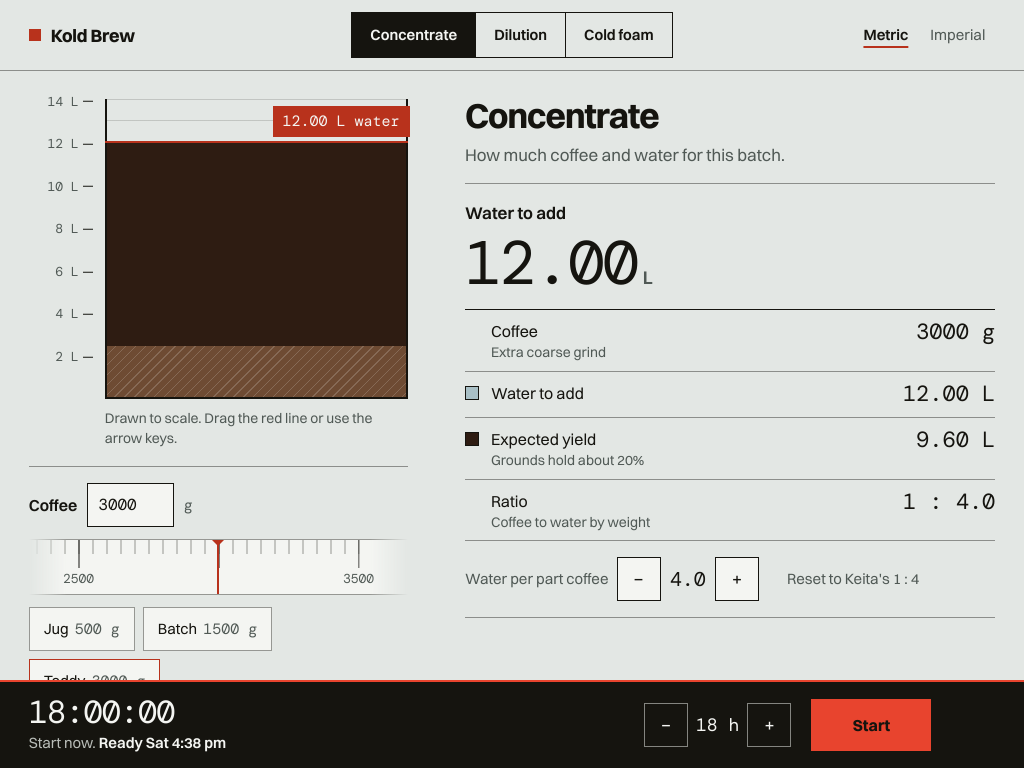
Test case: Calculators › typed exact value updates the batch and clamps on blur
Replace the text in the number field labelled "Coffee" with "500" at (130, 505), box x1=87 y1=483 x2=174 y2=527
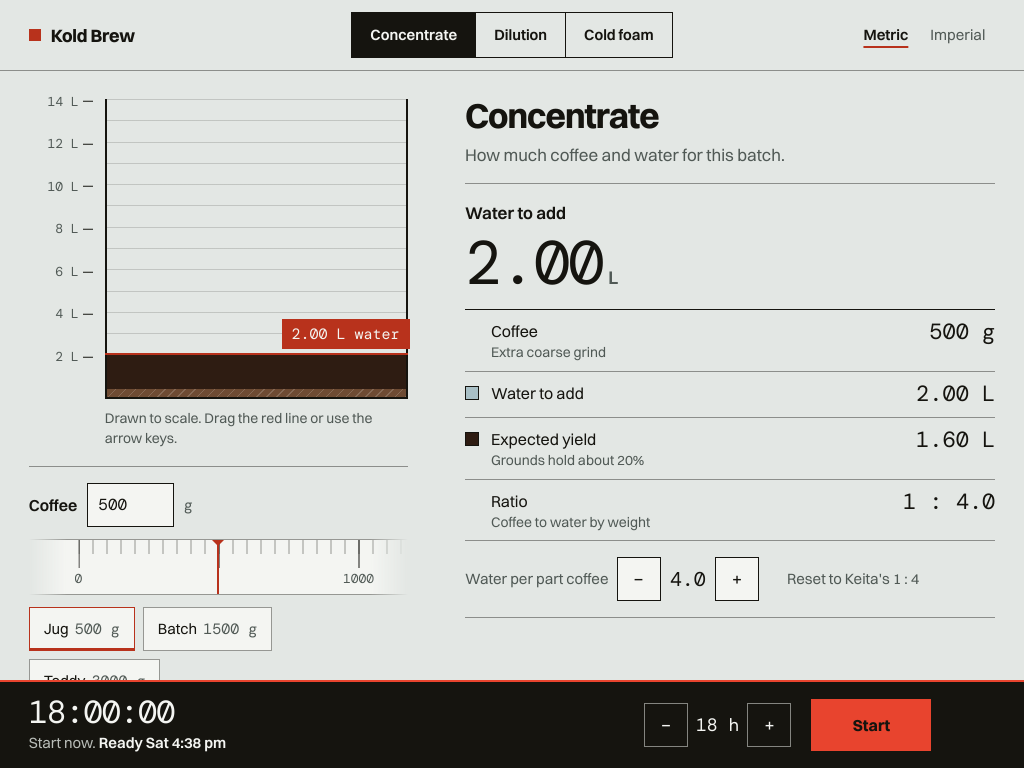
Now the element with test id "lead-value" reads "2.00 L", box x1=465 y1=223 x2=618 y2=303
Replace the text in the number field labelled "Coffee" with "9999" at (130, 505), box x1=87 y1=483 x2=174 y2=527
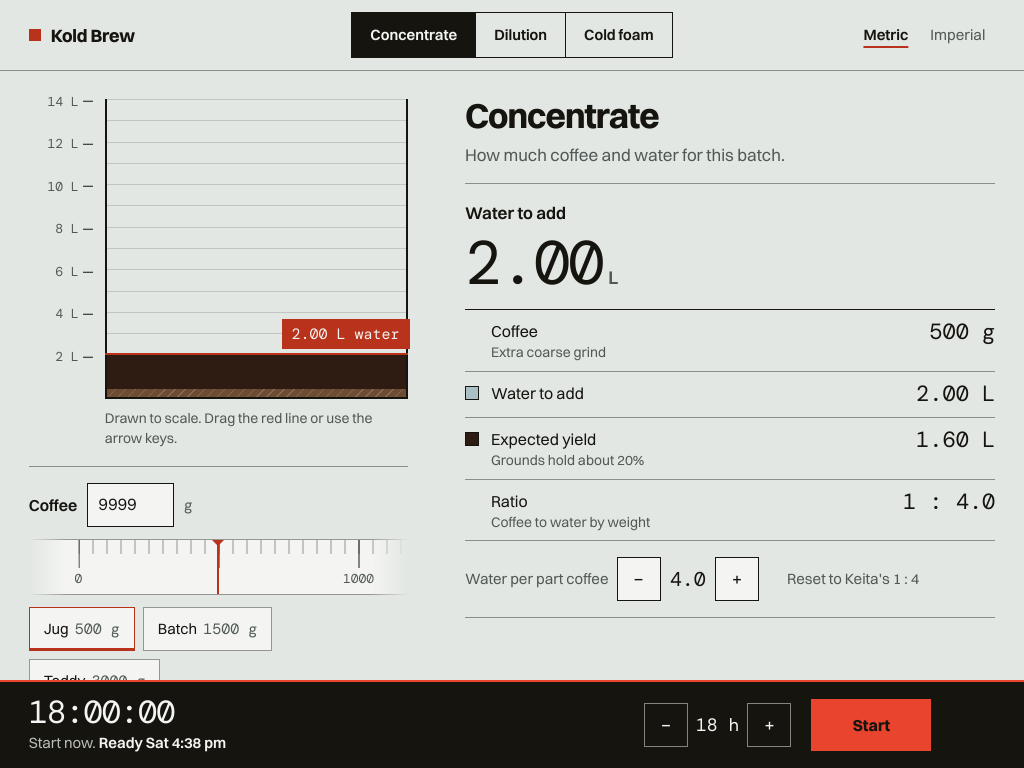
Leave the number field labelled "Coffee", box x1=87 y1=483 x2=174 y2=527
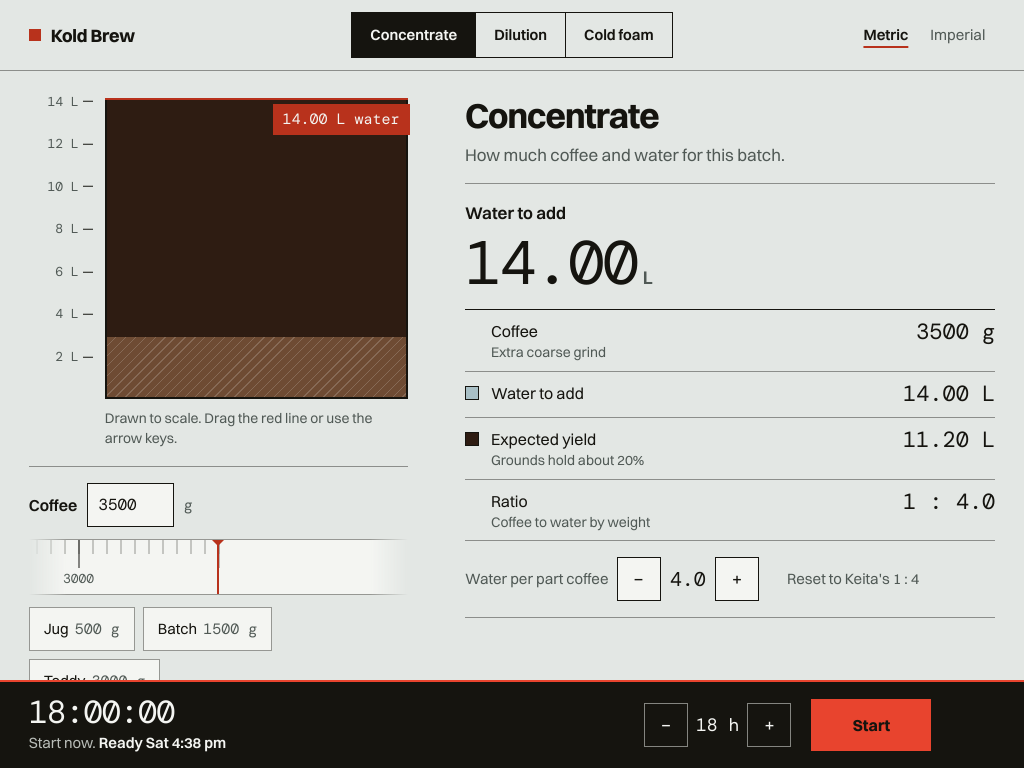
Now the number field labelled "Coffee" holds "3500", box x1=87 y1=483 x2=174 y2=527
Now the element with test id "lead-value" reads "14.00 L", box x1=465 y1=223 x2=653 y2=303
